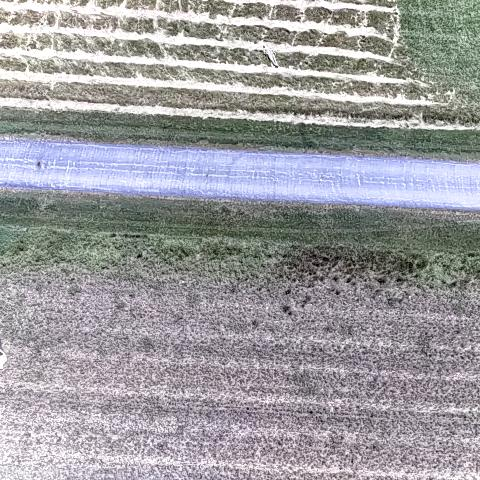person: (0, 330, 9, 369)
